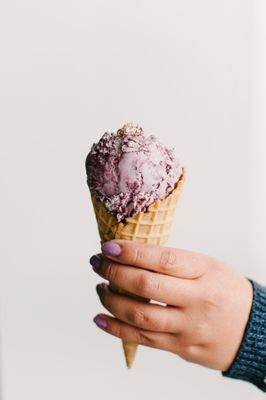salad: (85, 121, 188, 249)
